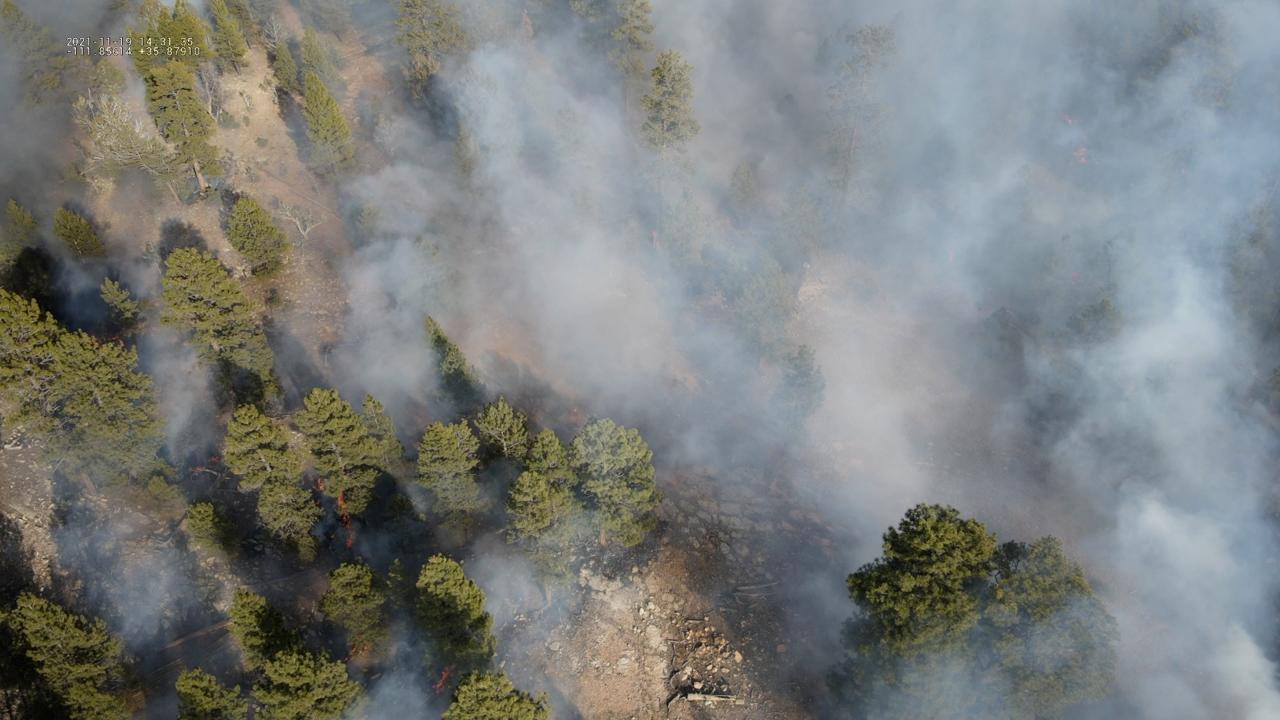fire: (335, 494, 357, 550), (431, 666, 452, 696), (207, 451, 223, 465)
smoke: (0, 0, 1280, 720)
